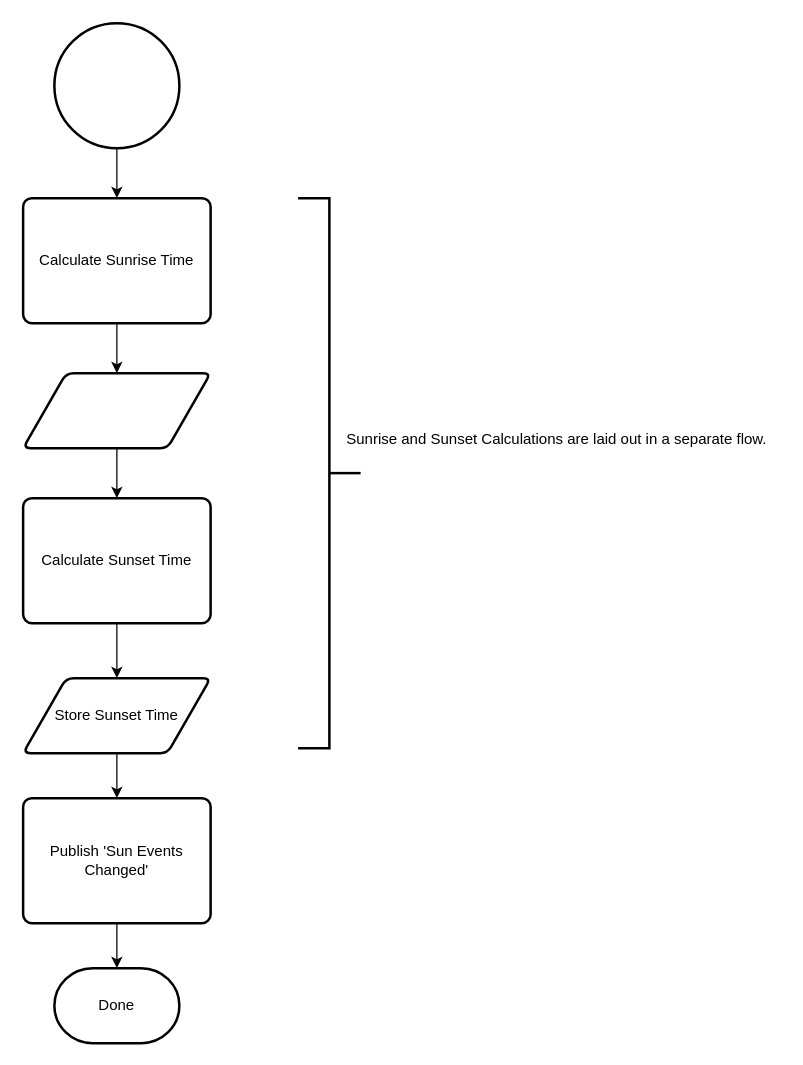
The diagram is 803 pixels wide and 1065 high, and some of its shapes have lost their labels. Each missing label, with the centre of its shape:
"Date Changed" belongs at point (116, 85).
"Store Sunrise Time" belongs at point (116, 410).
